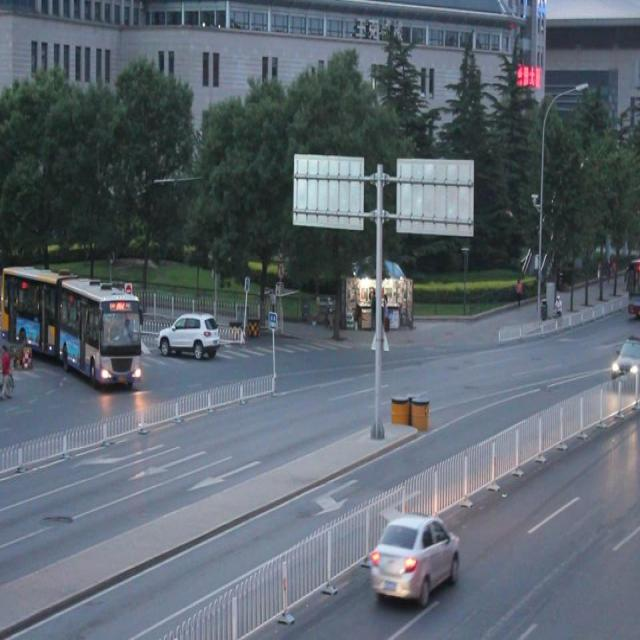car: (372, 510, 459, 603), (158, 310, 220, 360)
van: (1, 262, 142, 387)
